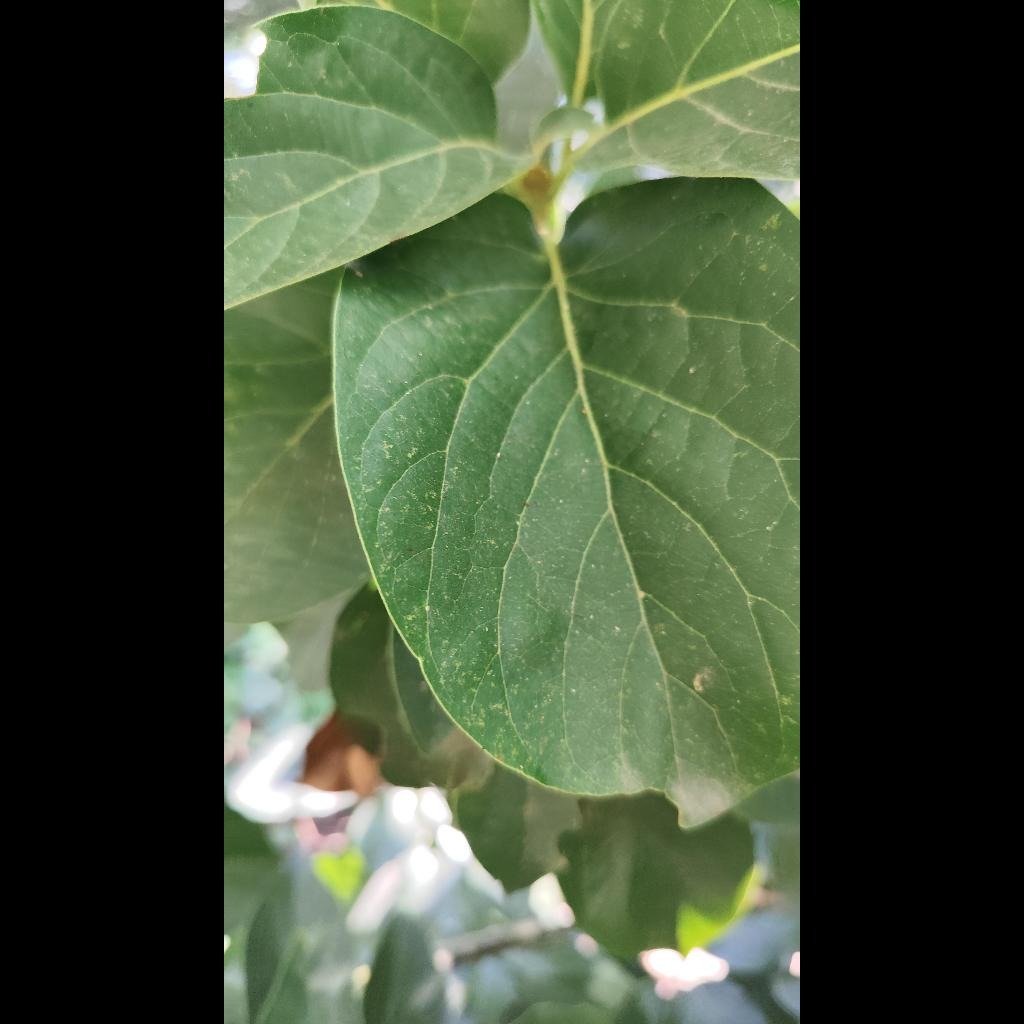hoja_sana: (333, 178, 799, 823)
